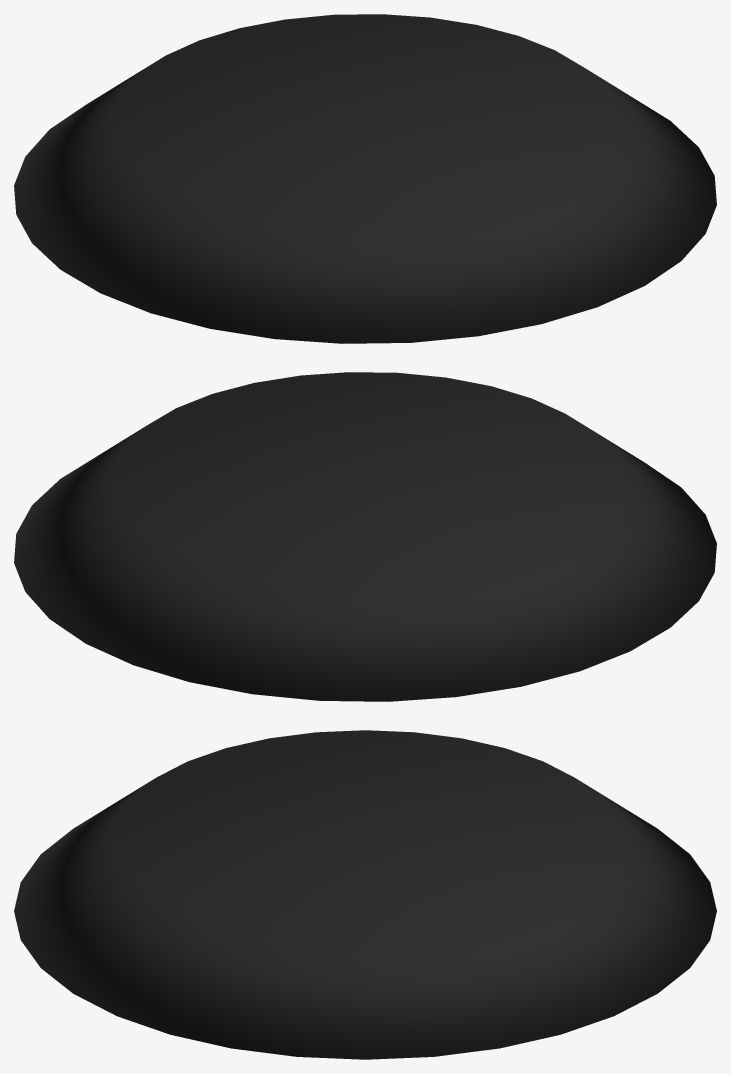
The model's file is EntityShadow.obj.
3 views of the same model, one above another, from view 1: azimuth 30°, elevation 25°; view 2: azimuth 150°, elevation 25°; view 3: azimuth 270°, elevation 25° (orthographic).
Visible parts, largest first — view 1: 円; view 2: 円; view 3: 円.
Boxes of the visible parts, bbox=[...] form: 円: bbox=[14, 14, 716, 343]; 円: bbox=[14, 372, 716, 701]; 円: bbox=[14, 730, 716, 1059].
Size of the model in its own units: 2.8 by 0.3287 by 2.8.
